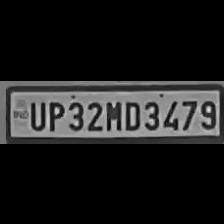2: (85, 97, 103, 130)
3: (142, 96, 160, 130), (65, 98, 84, 130)
4: (160, 96, 178, 130)
7: (178, 96, 196, 128)
9: (197, 96, 217, 128)
D: (122, 96, 140, 130)
M: (104, 97, 120, 131)
P: (46, 97, 64, 130)
U: (26, 97, 44, 128)
